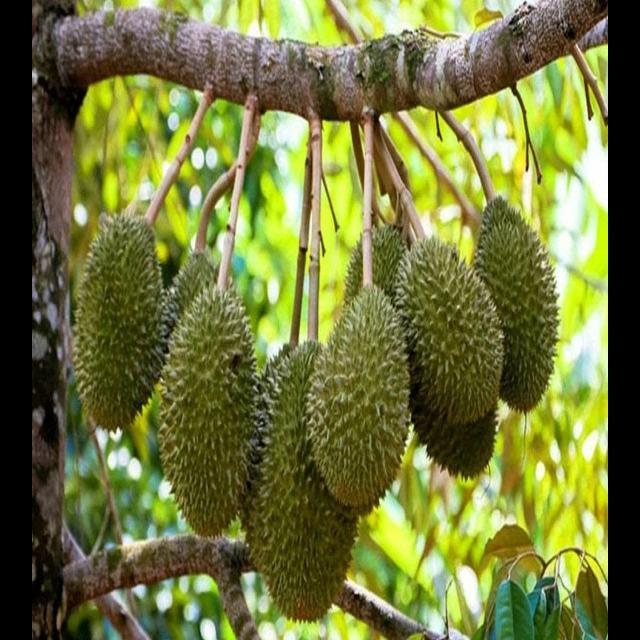immature: (243, 333, 359, 623), (164, 294, 265, 549), (309, 283, 415, 521), (393, 227, 506, 441), (71, 213, 168, 435), (476, 193, 564, 417)
